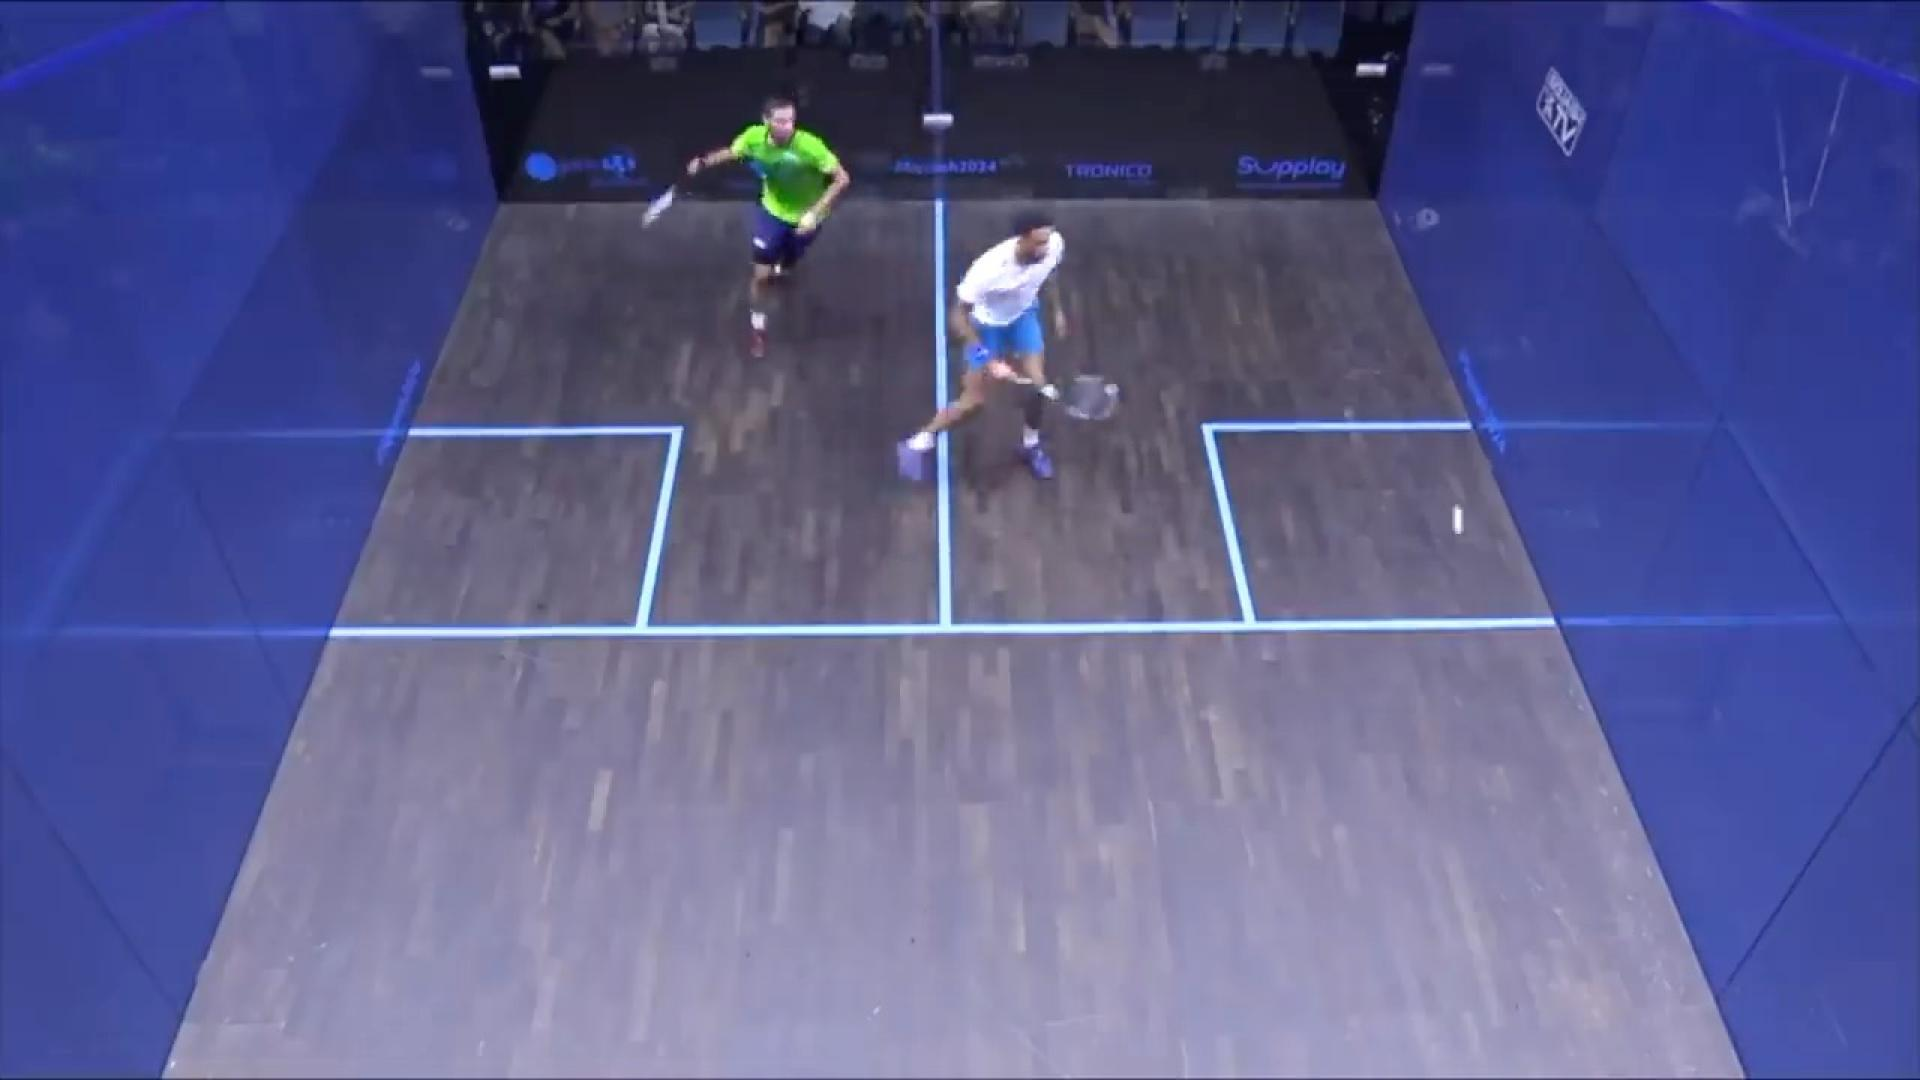Squash-Ball: (1445, 497, 1480, 547)
